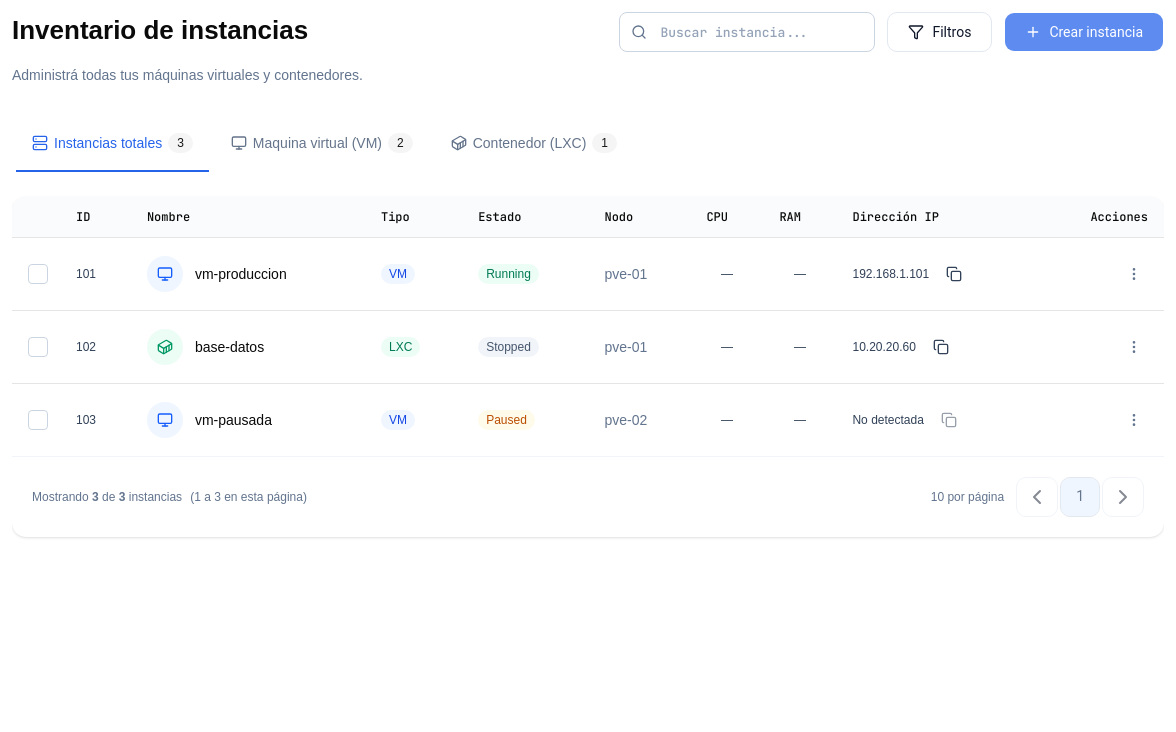
Test: Filtros del inventario de instancias › incluye instancias pausadas en el filtro de detenidas y en su contador
The image size is (1176, 732).
Expected: the link "vm-produccion" is shown, left=195, top=264, right=287, bottom=284
Note: El estado se elige desde el desplegable "Filtros" de la barra.
Click the button "Filtros" at (940, 32), box left=887, top=12, right=992, bottom=52
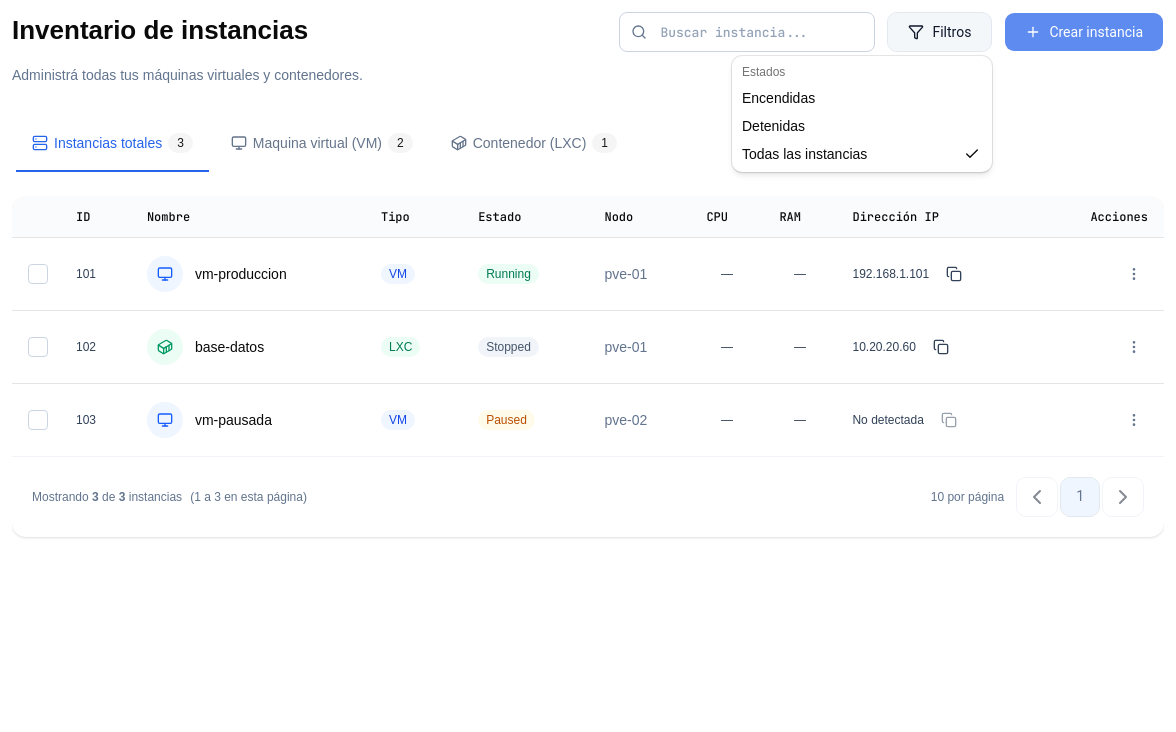
Click the menu item "Detenidas" at (774, 126), box left=742, top=118, right=805, bottom=134
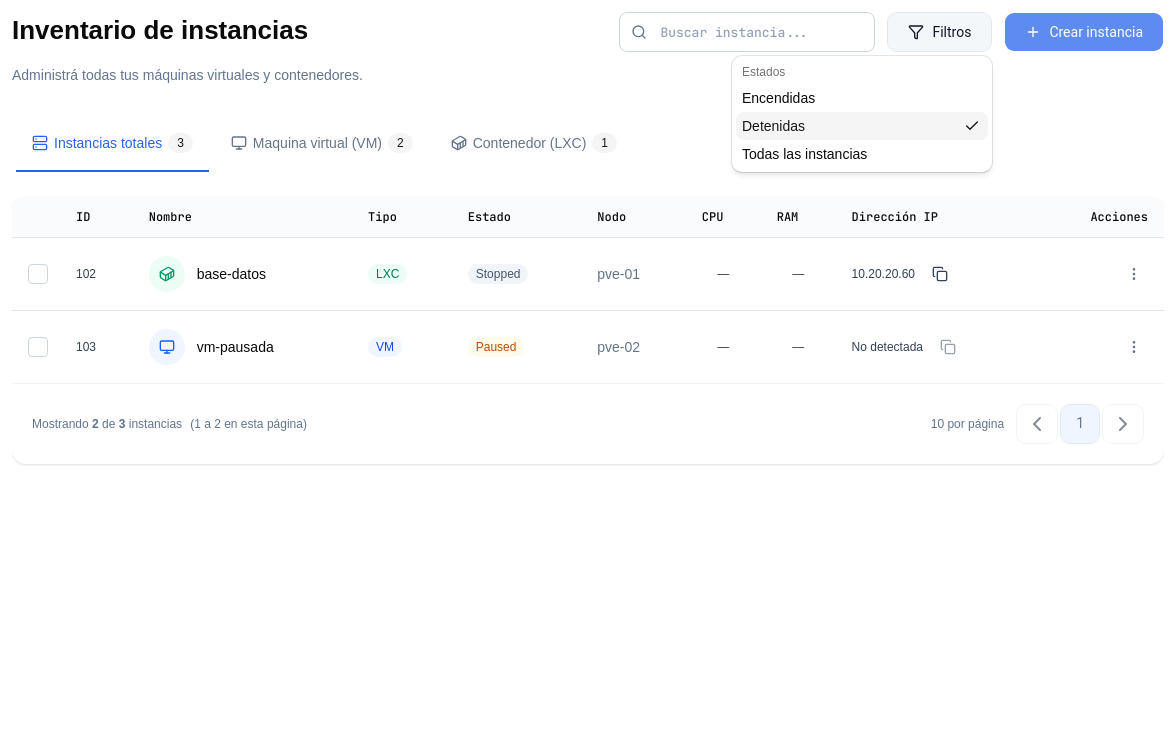
Expected: the link "base-datos" is shown, left=197, top=264, right=266, bottom=284
Expected: the link "vm-produccion" is gone
